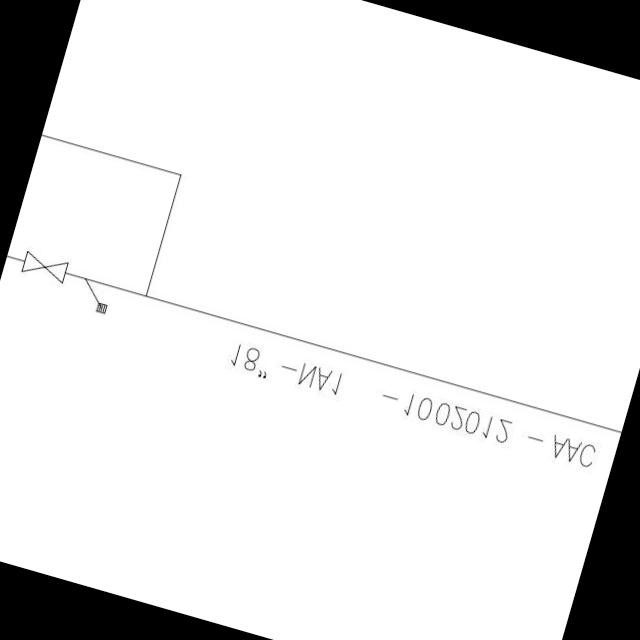GV: (14, 242, 75, 288)
